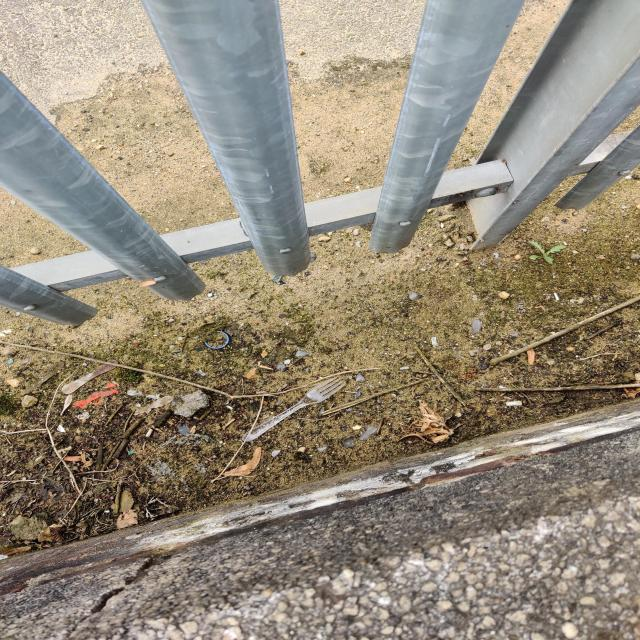litter: (241, 376, 346, 442), (60, 360, 118, 394)
